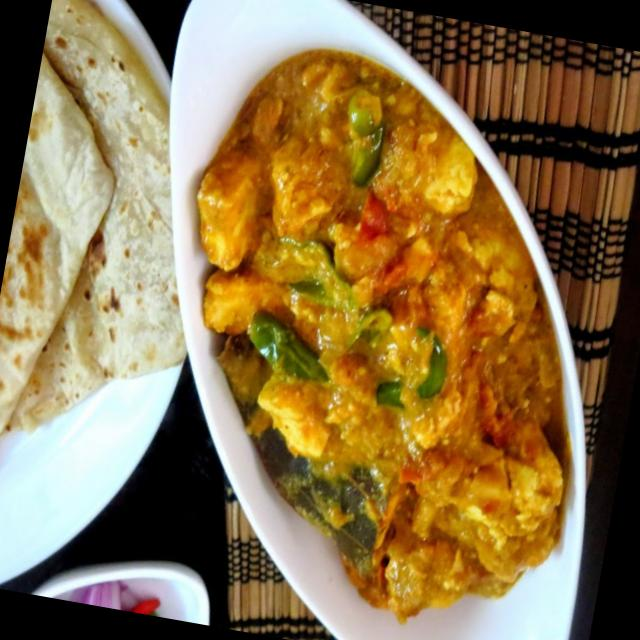ShahiPaneer: (128, 27, 635, 640)
